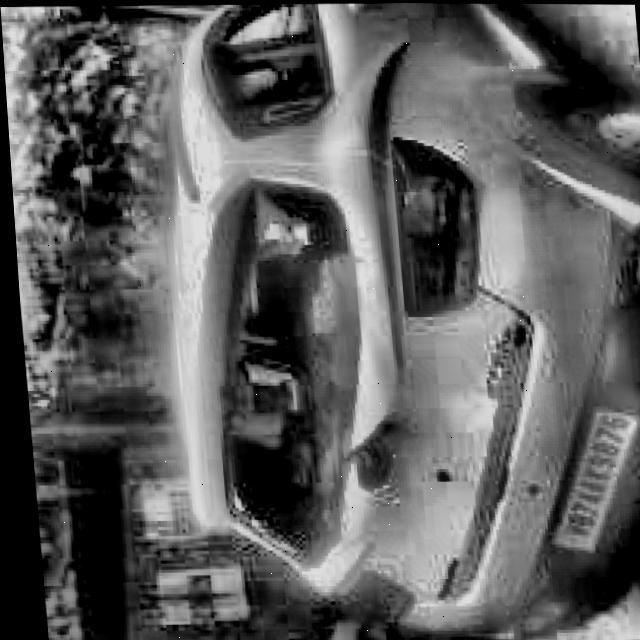glass_shatter: (228, 368, 363, 551), (242, 222, 363, 363)
